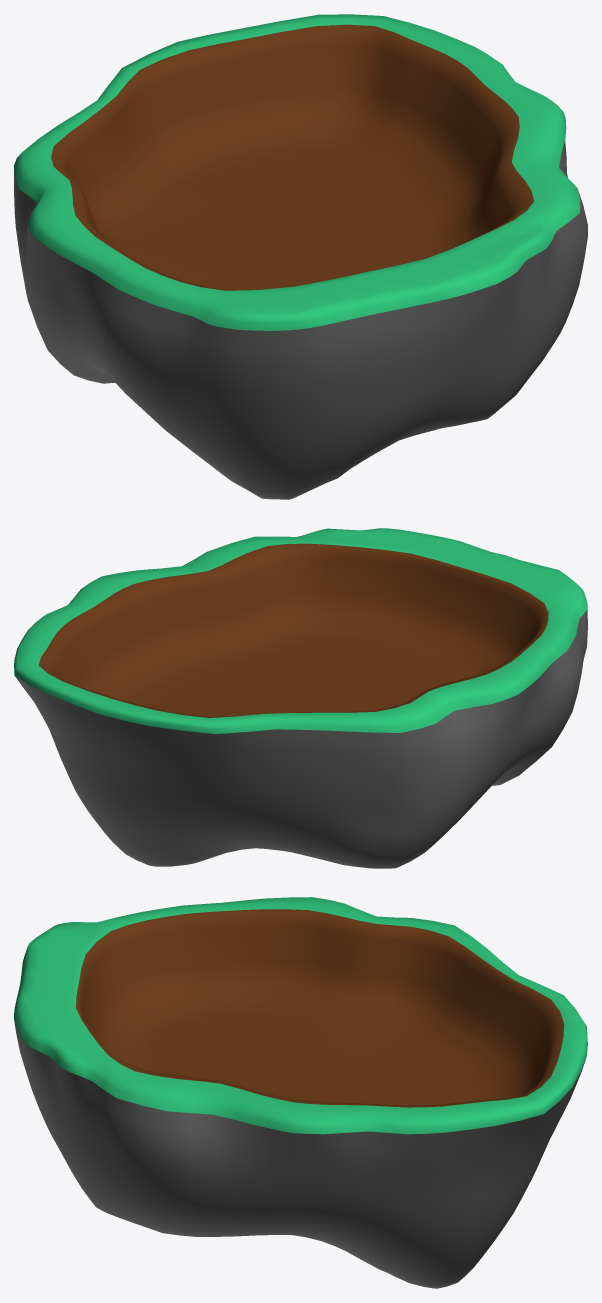
Rendered from teste.fbx.
3 views of the same model, one above another, from view 1: azimuth 30°, elevation 25°; view 2: azimuth 150°, elevation 25°; view 3: azimuth 270°, elevation 25° (orthographic). The views are drawn at different scales.
Parts seen in each view (by area): view 1: IslandMudAreaStone_Model.001; view 2: IslandMudAreaStone_Model.001; view 3: IslandMudAreaStone_Model.001.
Boxes of the visible parts, x1,y1,x2,y2 form: IslandMudAreaStone_Model.001: [14, 14, 587, 499]; IslandMudAreaStone_Model.001: [14, 528, 587, 868]; IslandMudAreaStone_Model.001: [14, 897, 587, 1288].
Size of the model in its own units: 5801 by 2720 by 6132.
